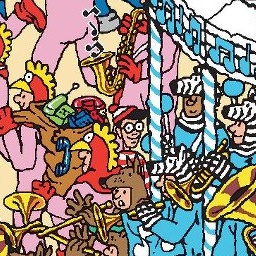waldo: (106, 103, 149, 153)
